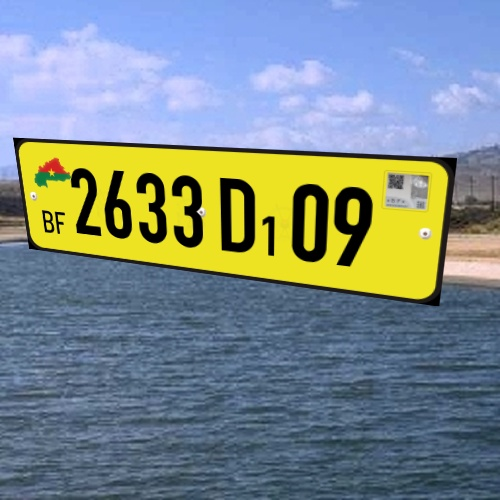plate: (8, 125, 457, 321)
